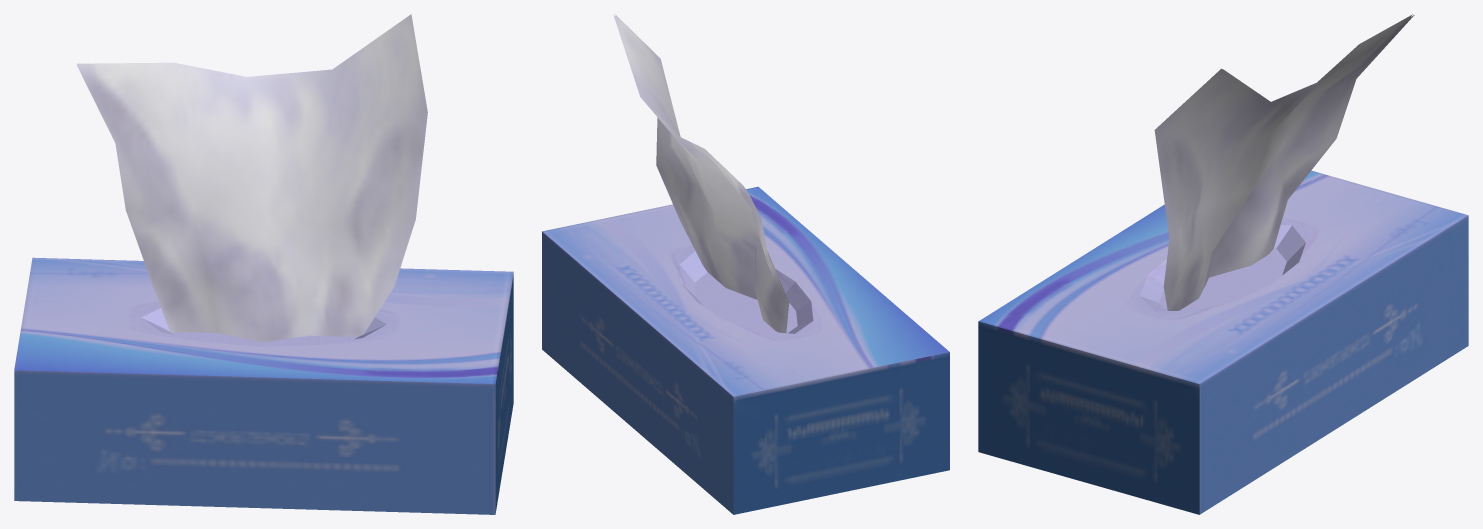
File: XianYiRenJia_01_zhijinhe_01.FBX
The picture shows the model from 3 angles, left to right: view 1: azimuth 30°, elevation 25°; view 2: azimuth 150°, elevation 25°; view 3: azimuth 270°, elevation 25°; orthographic projection. The views are drawn at different scales.
Parts seen in each view (by area): view 1: XianYiRenJia_01_zhijinhe_01; view 2: XianYiRenJia_01_zhijinhe_01; view 3: XianYiRenJia_01_zhijinhe_01.
Boxes of the visible parts, left/top/right/bottom form: XianYiRenJia_01_zhijinhe_01: left=14, top=14, right=513, bottom=514; XianYiRenJia_01_zhijinhe_01: left=542, top=14, right=949, bottom=514; XianYiRenJia_01_zhijinhe_01: left=978, top=14, right=1468, bottom=514.
Bounding box in the file's own units: 145 × 117 × 130.
Materials: 1 (1 with a texture image).
